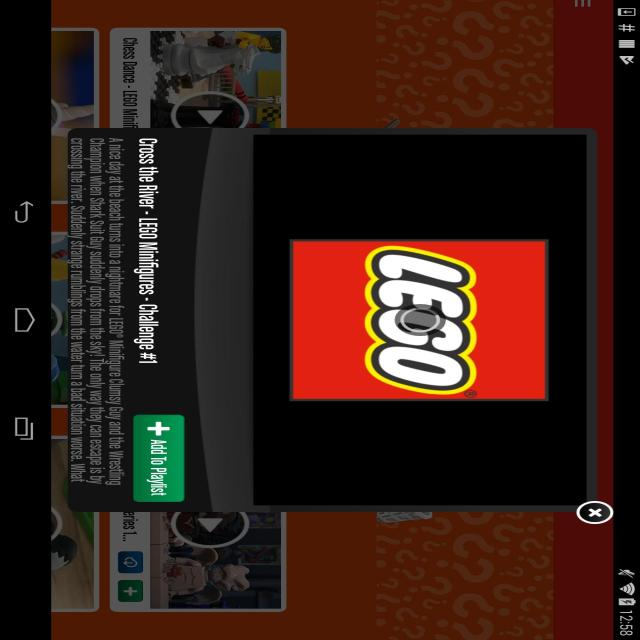button: (134, 417, 185, 502), (575, 502, 613, 525)
heading: (134, 134, 162, 366)
image: (51, 0, 613, 640), (255, 134, 582, 504)
text: (69, 136, 126, 489)
